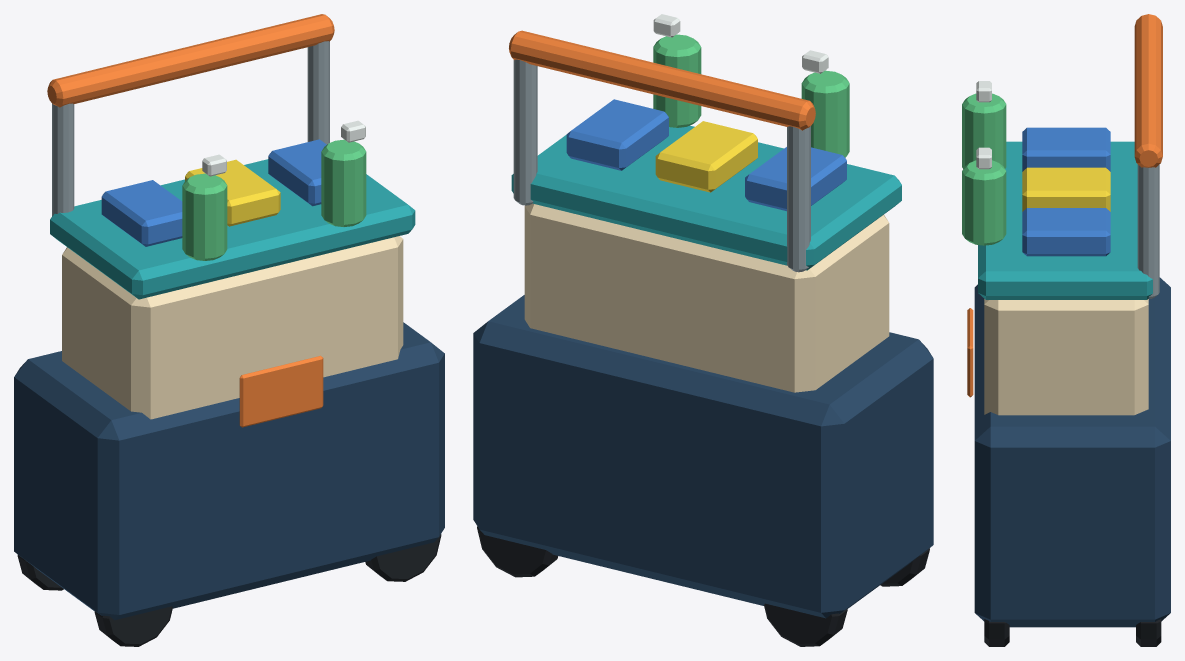
File: laundry-housekeeping-cart.glb
The picture shows the model from 3 angles, left to right: view 1: azimuth 30°, elevation 25°; view 2: azimuth 150°, elevation 25°; view 3: azimuth 270°, elevation 25°; orthographic projection. The views are drawn at different scales.
Visible parts, largest first — view 1: LP_LAUNDRY_CART_FRAME, LP_LAUNDRY_CART_HAMPER, LP_LAUNDRY_CART_LID, LP_LAUNDRY_CART_HANDLE, LP_LAUNDRY_CART_ROOM_TAG, LP_LAUNDRY_CART_TOWEL_1, LP_LAUNDRY_CART_SPRAY_BOTTLE_1, LP_LAUNDRY_CART_SPRAY_BOTTLE_2, LP_LAUNDRY_CART_TOWEL_2, LP_LAUNDRY_CART_TOWEL_3, LP_LAUNDRY_CART_HANDLE_POST_-0.46, LP_LAUNDRY_CART_HANDLE_POST_+0.46 (+2 smaller); view 2: LP_LAUNDRY_CART_FRAME, LP_LAUNDRY_CART_HAMPER, LP_LAUNDRY_CART_LID, LP_LAUNDRY_CART_HANDLE, LP_LAUNDRY_CART_TOWEL_3, LP_LAUNDRY_CART_TOWEL_2, LP_LAUNDRY_CART_HANDLE_POST_+0.46, LP_LAUNDRY_CART_TOWEL_1, LP_LAUNDRY_CART_HANDLE_POST_-0.46, LP_LAUNDRY_CART_SPRAY_BOTTLE_1, LP_LAUNDRY_CART_SPRAY_BOTTLE_2, LP_LAUNDRY_CART_WHEEL_-0.48_+0.24 (+2 smaller); view 3: LP_LAUNDRY_CART_FRAME, LP_LAUNDRY_CART_HAMPER, LP_LAUNDRY_CART_LID, LP_LAUNDRY_CART_HANDLE, LP_LAUNDRY_CART_TOWEL_3, LP_LAUNDRY_CART_TOWEL_1, LP_LAUNDRY_CART_TOWEL_2, LP_LAUNDRY_CART_SPRAY_BOTTLE_2, LP_LAUNDRY_CART_SPRAY_BOTTLE_1, LP_LAUNDRY_CART_HANDLE_POST_+0.46, LP_LAUNDRY_CART_WHEEL_+0.48_-0.24, LP_LAUNDRY_CART_WHEEL_+0.48_+0.24 (+3 smaller).
Part boxes in pixels (x1,y1,x2,y2): LP_LAUNDRY_CART_FRAME: (14, 322, 444, 620); LP_LAUNDRY_CART_HAMPER: (62, 236, 403, 419); LP_LAUNDRY_CART_LID: (50, 159, 415, 299); LP_LAUNDRY_CART_HANDLE: (47, 14, 334, 107); LP_LAUNDRY_CART_ROOM_TAG: (239, 355, 323, 427); LP_LAUNDRY_CART_TOWEL_1: (101, 180, 182, 246); LP_LAUNDRY_CART_SPRAY_BOTTLE_1: (182, 173, 227, 260); LP_LAUNDRY_CART_SPRAY_BOTTLE_2: (321, 139, 366, 226); LP_LAUNDRY_CART_TOWEL_2: (185, 159, 280, 226); LP_LAUNDRY_CART_TOWEL_3: (268, 139, 326, 206); LP_LAUNDRY_CART_HANDLE_POST_-0.46: (52, 103, 74, 215); LP_LAUNDRY_CART_HANDLE_POST_+0.46: (307, 41, 329, 144); LP_LAUNDRY_CART_FRAME: (473, 295, 933, 618); LP_LAUNDRY_CART_HAMPER: (524, 203, 889, 392); LP_LAUNDRY_CART_LID: (511, 125, 901, 270); LP_LAUNDRY_CART_HANDLE: (509, 30, 815, 130); LP_LAUNDRY_CART_TOWEL_3: (566, 99, 668, 170); LP_LAUNDRY_CART_TOWEL_2: (655, 121, 757, 192); LP_LAUNDRY_CART_HANDLE_POST_+0.46: (513, 59, 537, 205); LP_LAUNDRY_CART_TOWEL_1: (745, 147, 846, 211); LP_LAUNDRY_CART_HANDLE_POST_-0.46: (787, 126, 810, 272); LP_LAUNDRY_CART_SPRAY_BOTTLE_1: (801, 70, 849, 157); LP_LAUNDRY_CART_SPRAY_BOTTLE_2: (653, 34, 701, 127); LP_LAUNDRY_CART_WHEEL_-0.48_+0.24: (764, 603, 847, 646); LP_LAUNDRY_CART_FRAME: (974, 277, 1170, 627); LP_LAUNDRY_CART_HAMPER: (984, 299, 1148, 415); LP_LAUNDRY_CART_LID: (978, 141, 1152, 299); LP_LAUNDRY_CART_HANDLE: (1134, 14, 1162, 167); LP_LAUNDRY_CART_TOWEL_3: (1022, 208, 1110, 256); LP_LAUNDRY_CART_TOWEL_1: (1022, 127, 1110, 171); LP_LAUNDRY_CART_TOWEL_2: (1022, 167, 1110, 211); LP_LAUNDRY_CART_SPRAY_BOTTLE_2: (962, 160, 1006, 245); LP_LAUNDRY_CART_SPRAY_BOTTLE_1: (962, 93, 1006, 168); LP_LAUNDRY_CART_HANDLE_POST_+0.46: (1137, 164, 1159, 298); LP_LAUNDRY_CART_WHEEL_+0.48_-0.24: (984, 619, 1009, 646); LP_LAUNDRY_CART_WHEEL_+0.48_+0.24: (1136, 619, 1161, 646).
Size of the model in its own units: 1.25 by 1.74 by 0.66.
